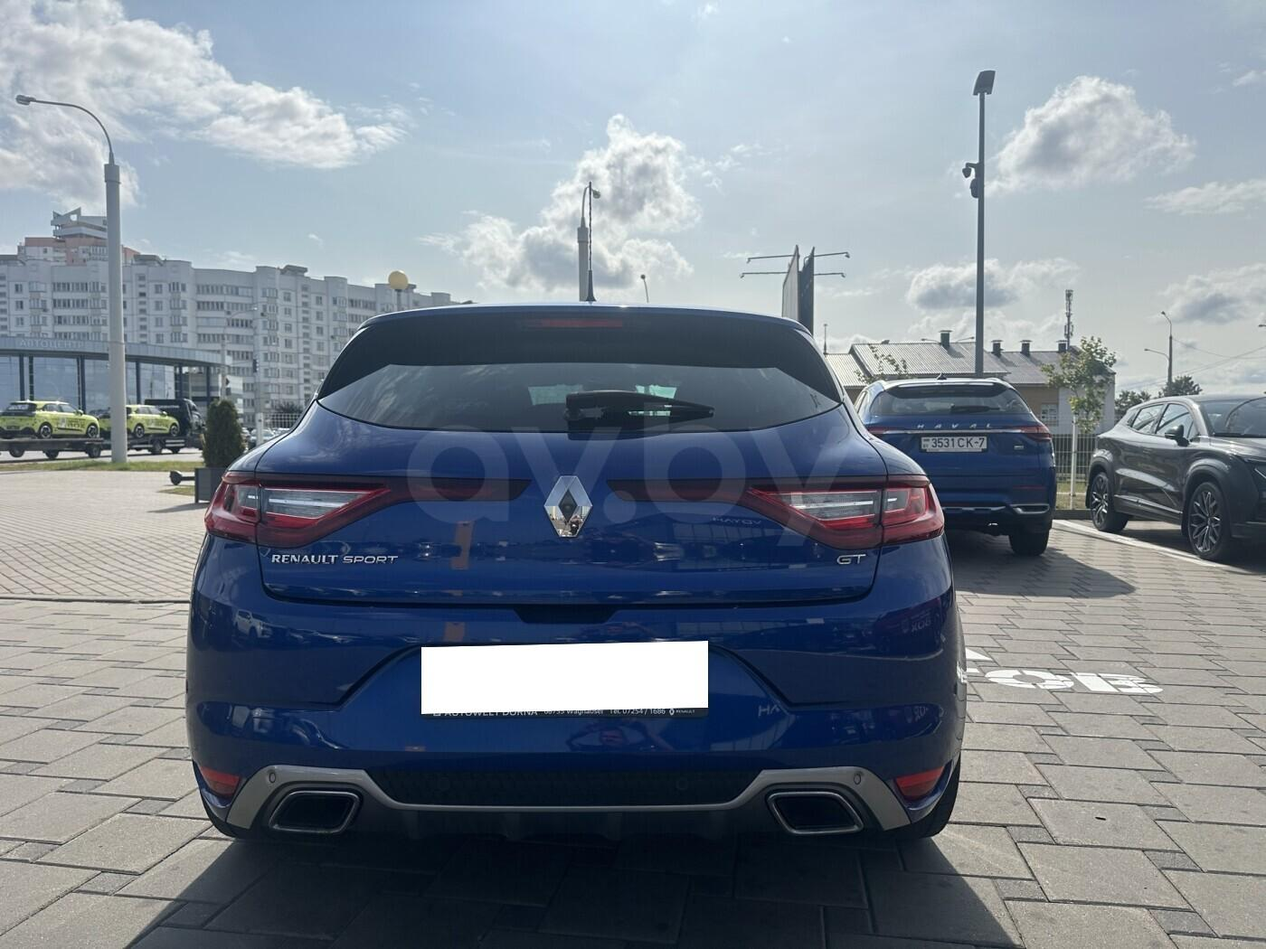Megane_2016-2020: (178, 296, 977, 866)
